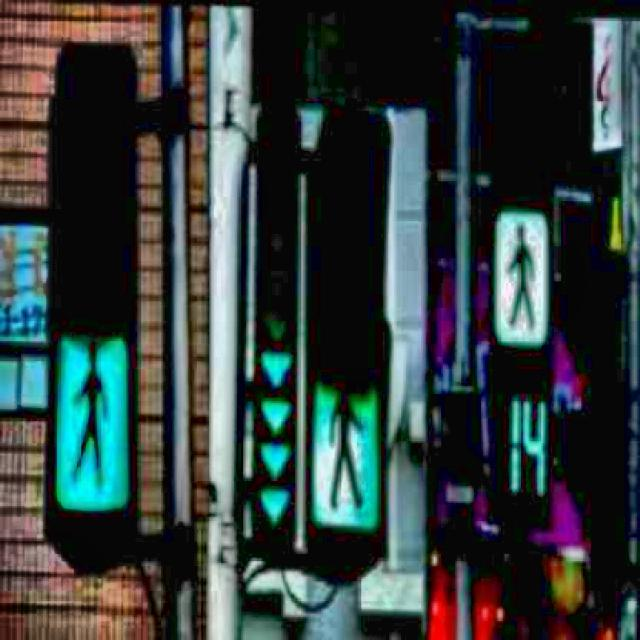semaforo pedestre: (245, 67, 428, 601), (35, 32, 191, 594), (452, 20, 598, 582)
